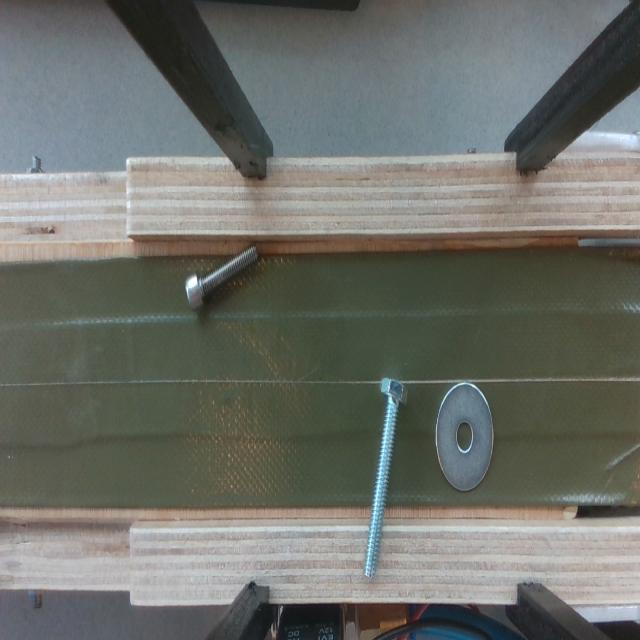Bolt: (362, 372, 414, 585), (182, 243, 262, 320)
Washer: (432, 379, 502, 499)
